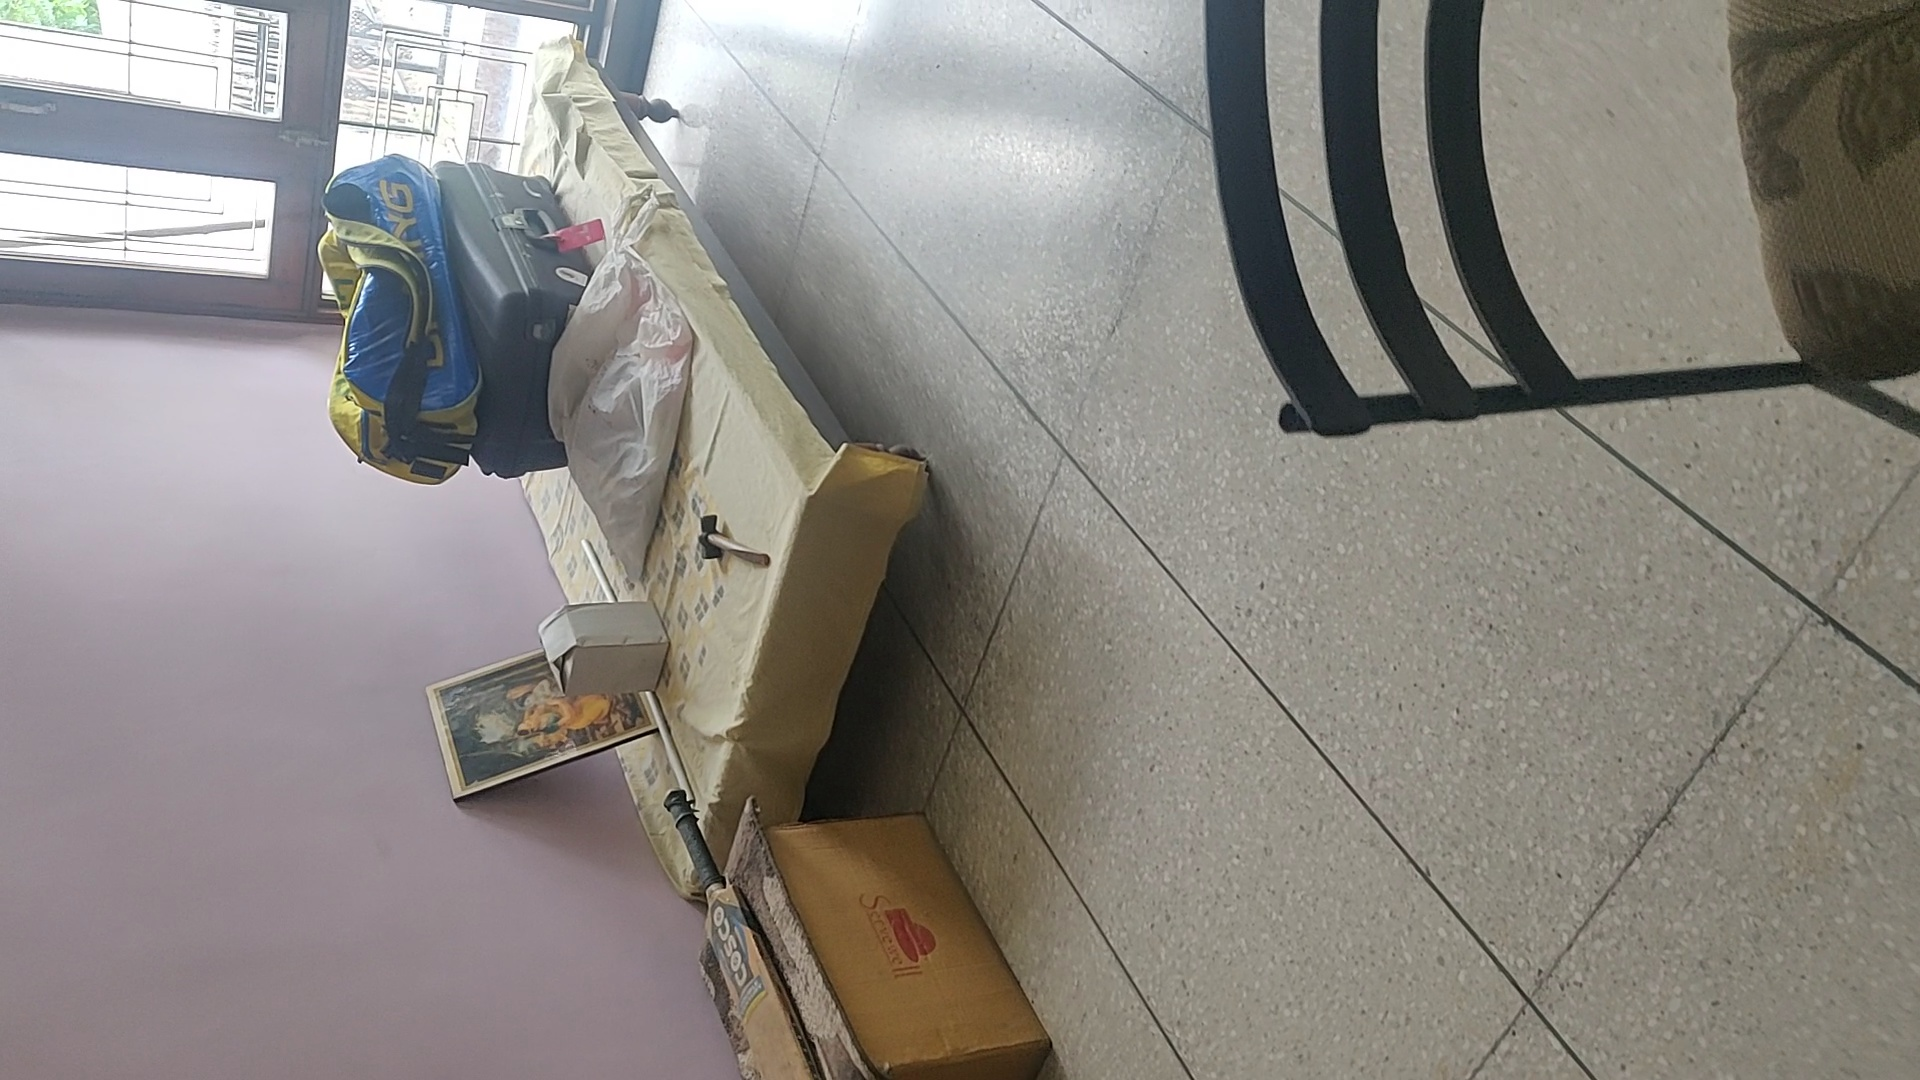hammer: (695, 513, 774, 571)
